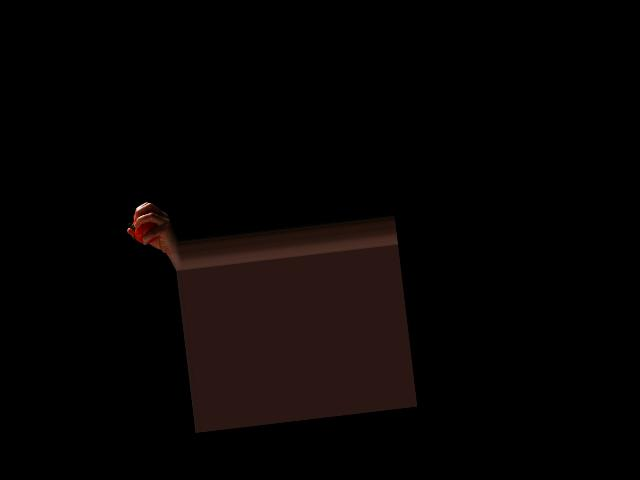tomato: (132, 217, 160, 245)
